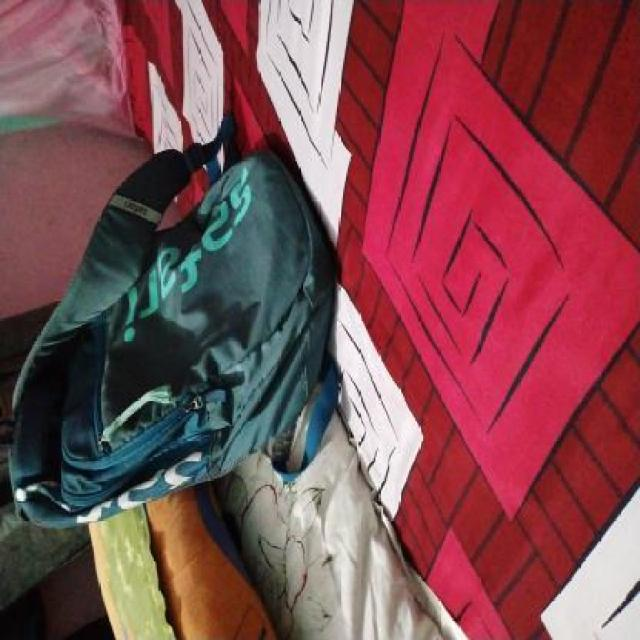backpack: (6, 122, 343, 529)
